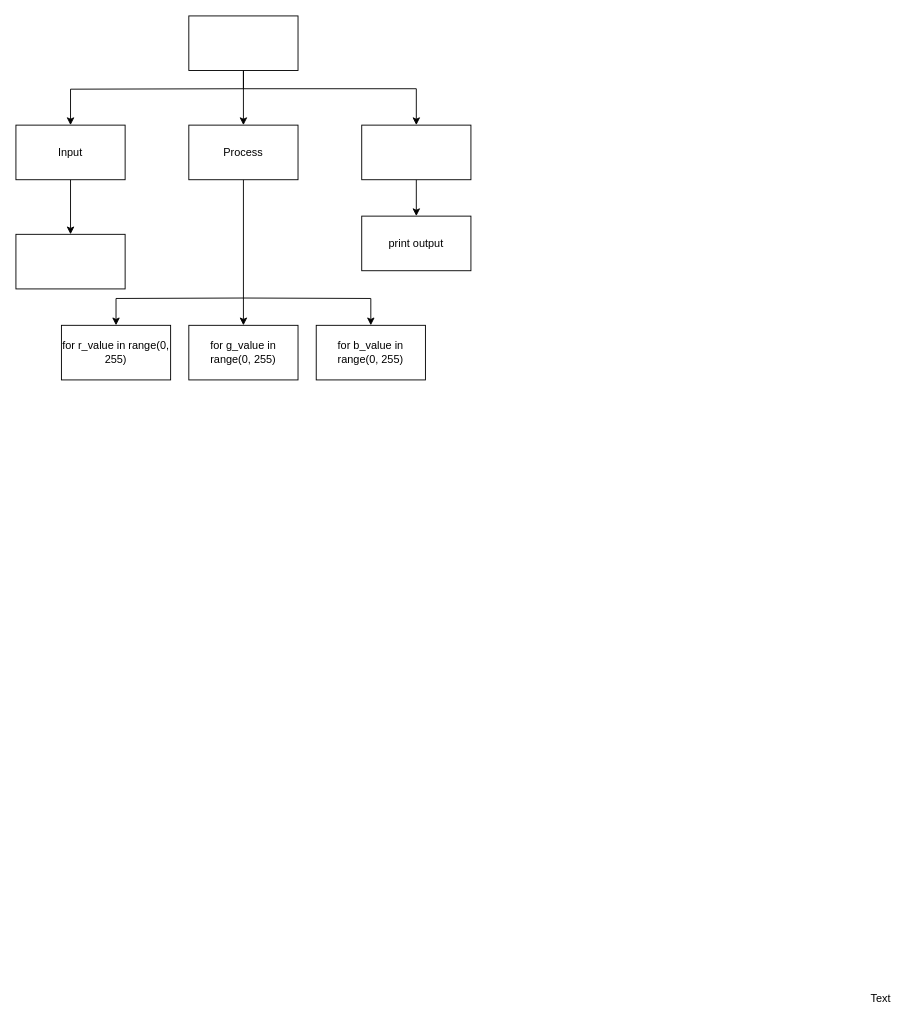
The diagram is 915 pixels wide and 1024 high, and some of its shapes have lost their labels. The centre of each missing label's shape, as x and y in pixels:
Output: the point at 416,152
user presses enter: the point at 70,261
While Loop: the point at 243,43
